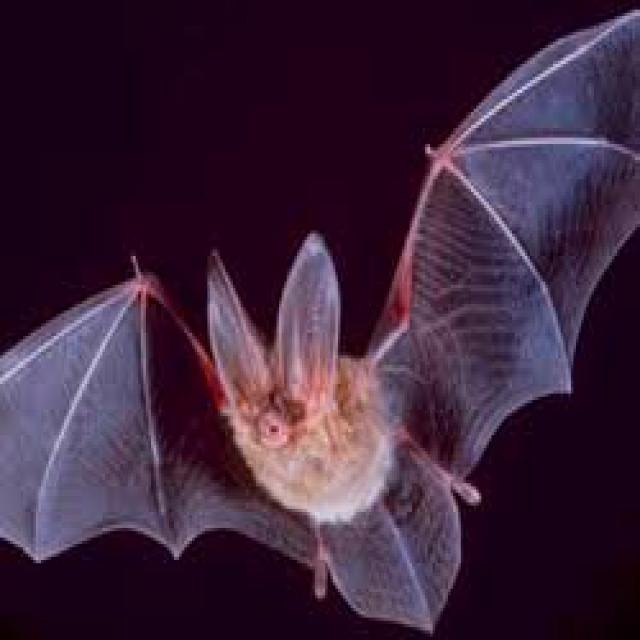bat: (0, 10, 637, 630)
